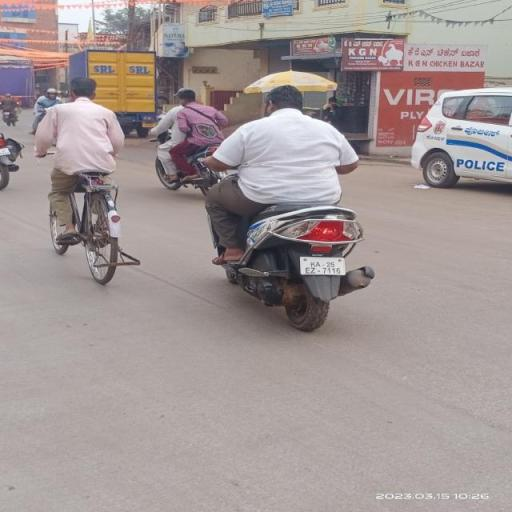bike: (197, 84, 381, 332)
numberplate: (299, 257, 347, 275)
withouthelmet: (267, 88, 303, 112)
